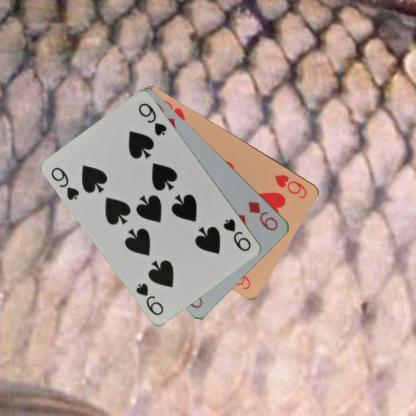6h: (272, 172, 309, 200)
9d: (246, 198, 280, 232)
9s: (48, 164, 81, 202), (221, 216, 252, 253)
